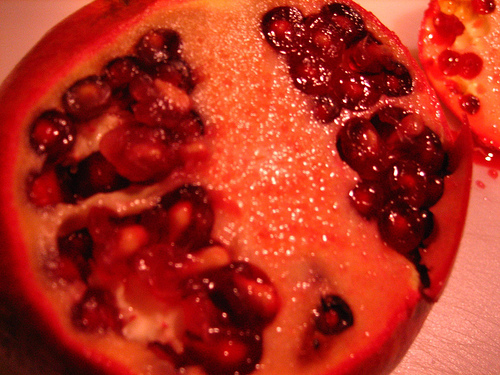pomogranate: (0, 4, 470, 374)
